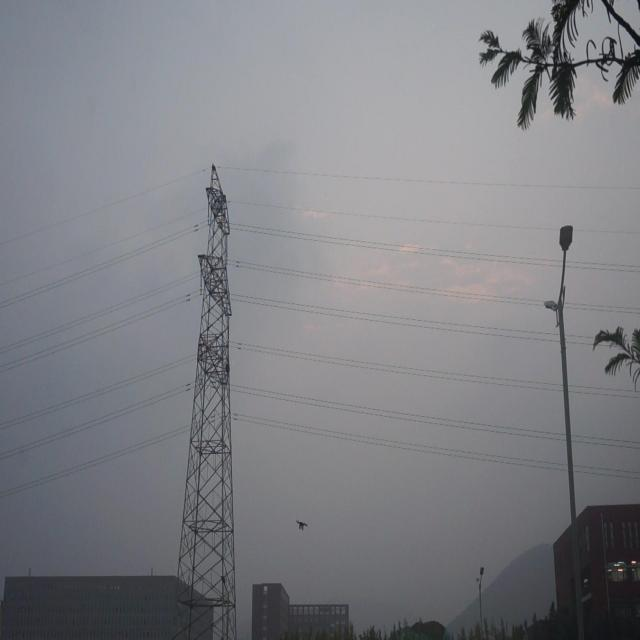UAV: (296, 519, 308, 530)
